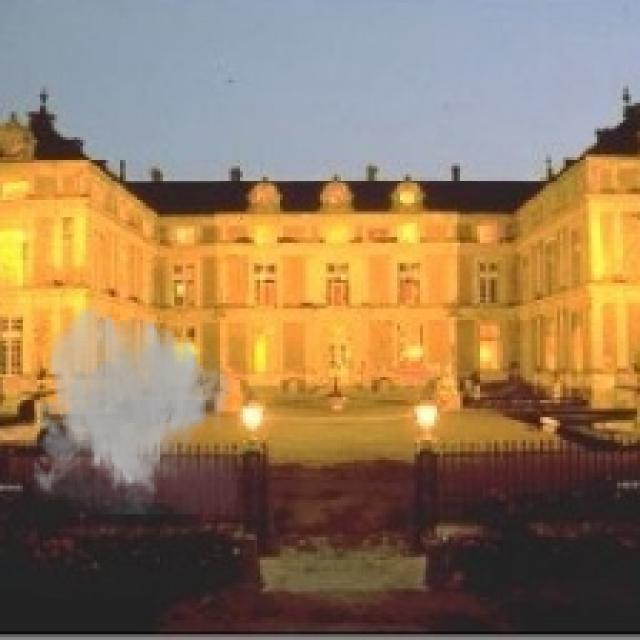smoke: (26, 303, 237, 514)
